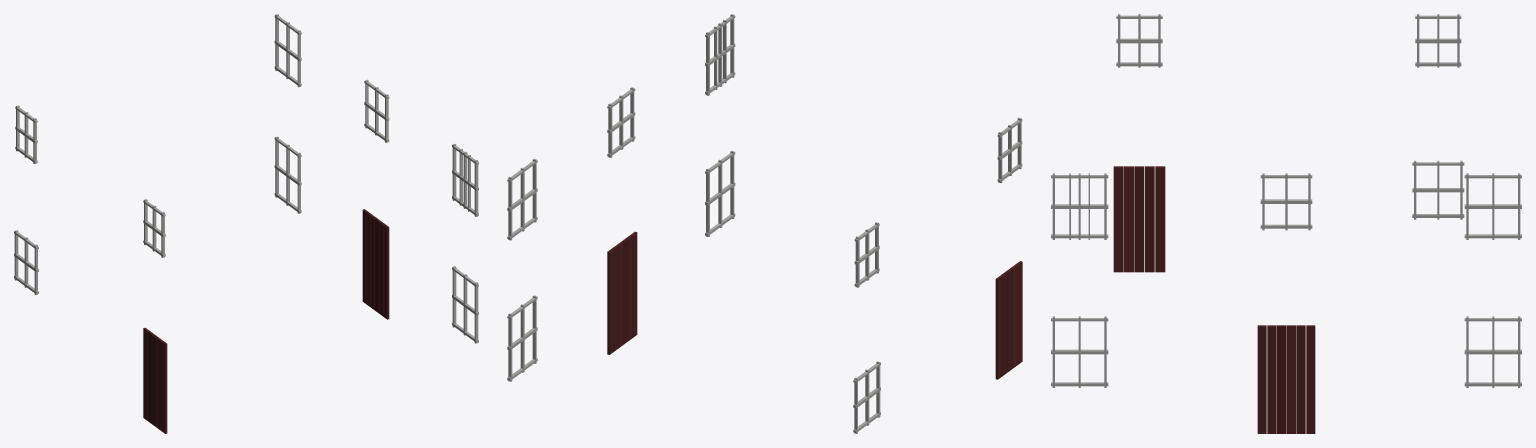
File: SM_Bld_057_Wood.glb
The picture shows the model from 3 angles, left to right: view 1: azimuth 30°, elevation 25°; view 2: azimuth 150°, elevation 25°; view 3: azimuth 270°, elevation 25°; orthographic projection. The views are drawn at different scales.
Visible parts, largest first — view 1: SM_Bld_057_Wood; view 2: SM_Bld_057_Wood; view 3: SM_Bld_057_Wood.
Part boxes in pixels (box(x1,y1,x2,y2)): SM_Bld_057_Wood: box(14, 14, 478, 433); SM_Bld_057_Wood: box(507, 14, 1022, 433); SM_Bld_057_Wood: box(1051, 14, 1521, 433).
Size of the model in its own units: 6.72 by 4.96 by 8.15.
